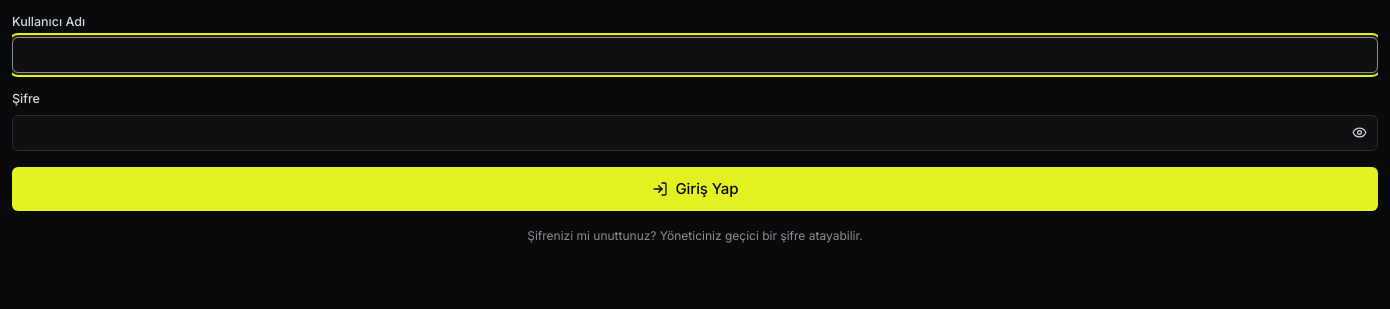
LoginForm › validates the fields before calling the API
Type "123" into the password field labelled "Şifre". click: point(695, 133)
box: [12,115,1378,151]
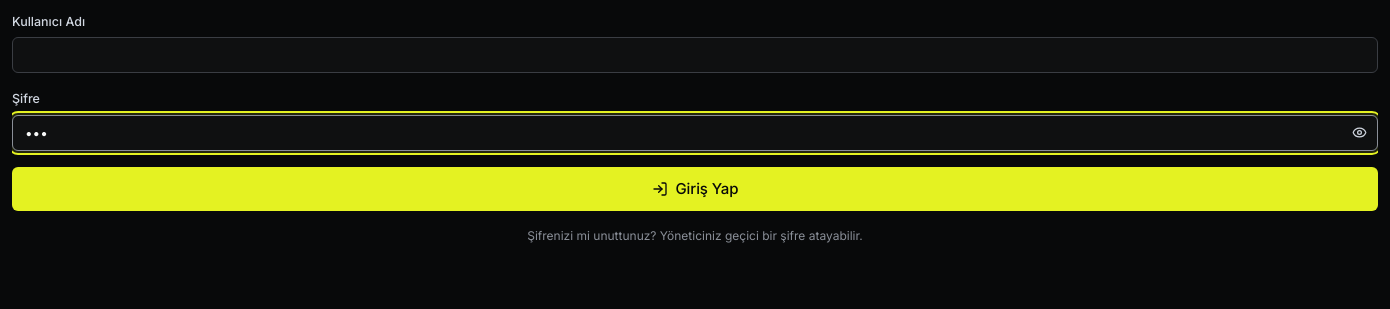
Click the button "Giriş Yap". click: point(695, 189)
box: [12,167,1378,211]
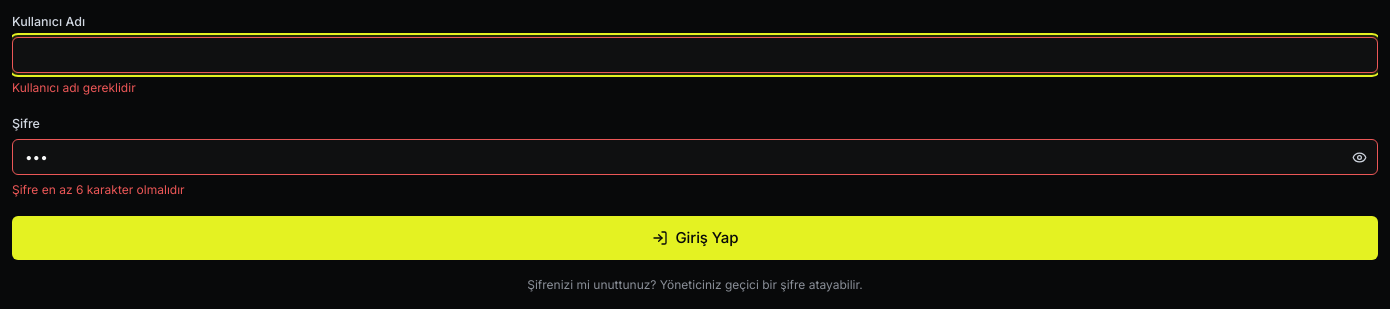
Result: the text "Kullanıcı adı gereklidir" is shown at [12,80,136,95]
Result: the text "Şifre en az 6 karakter olmalıdır" is shown at [12,182,185,197]
